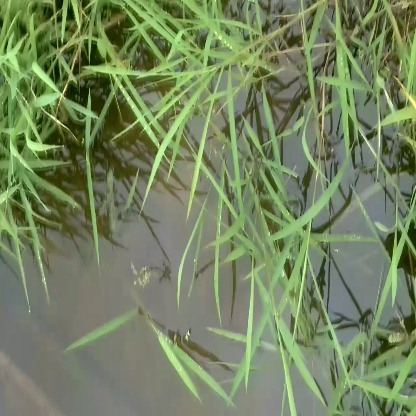grass: (206, 162, 344, 365)
